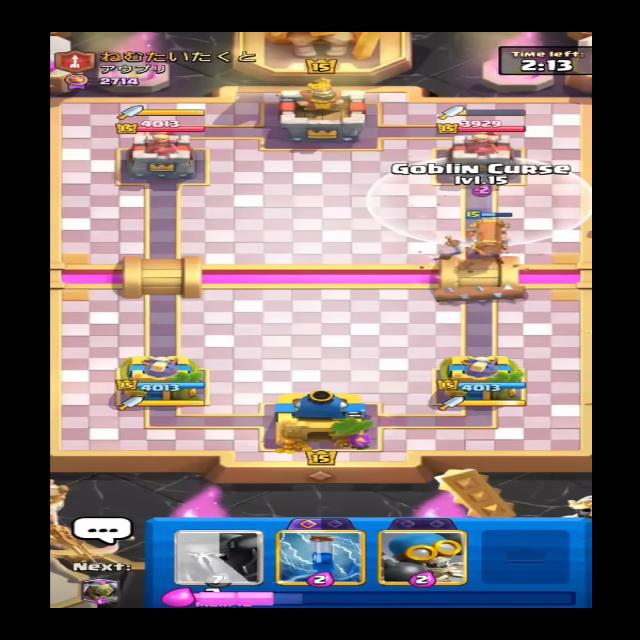Log: (431, 281, 531, 304)
